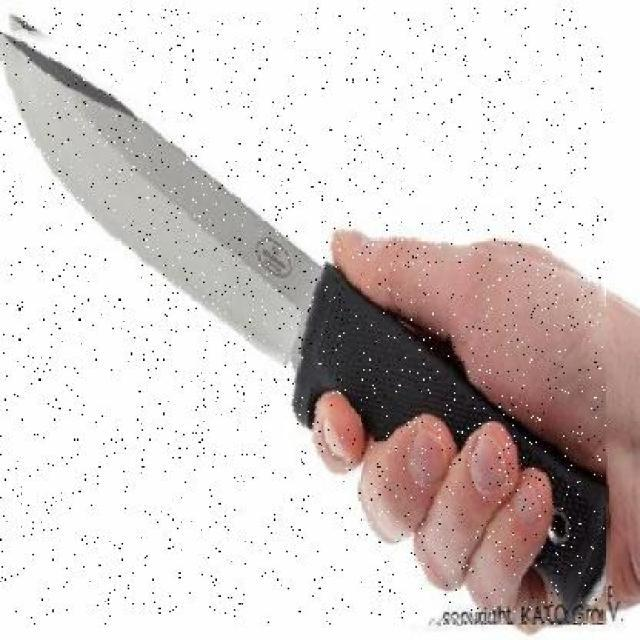knife: (0, 7, 606, 625)
